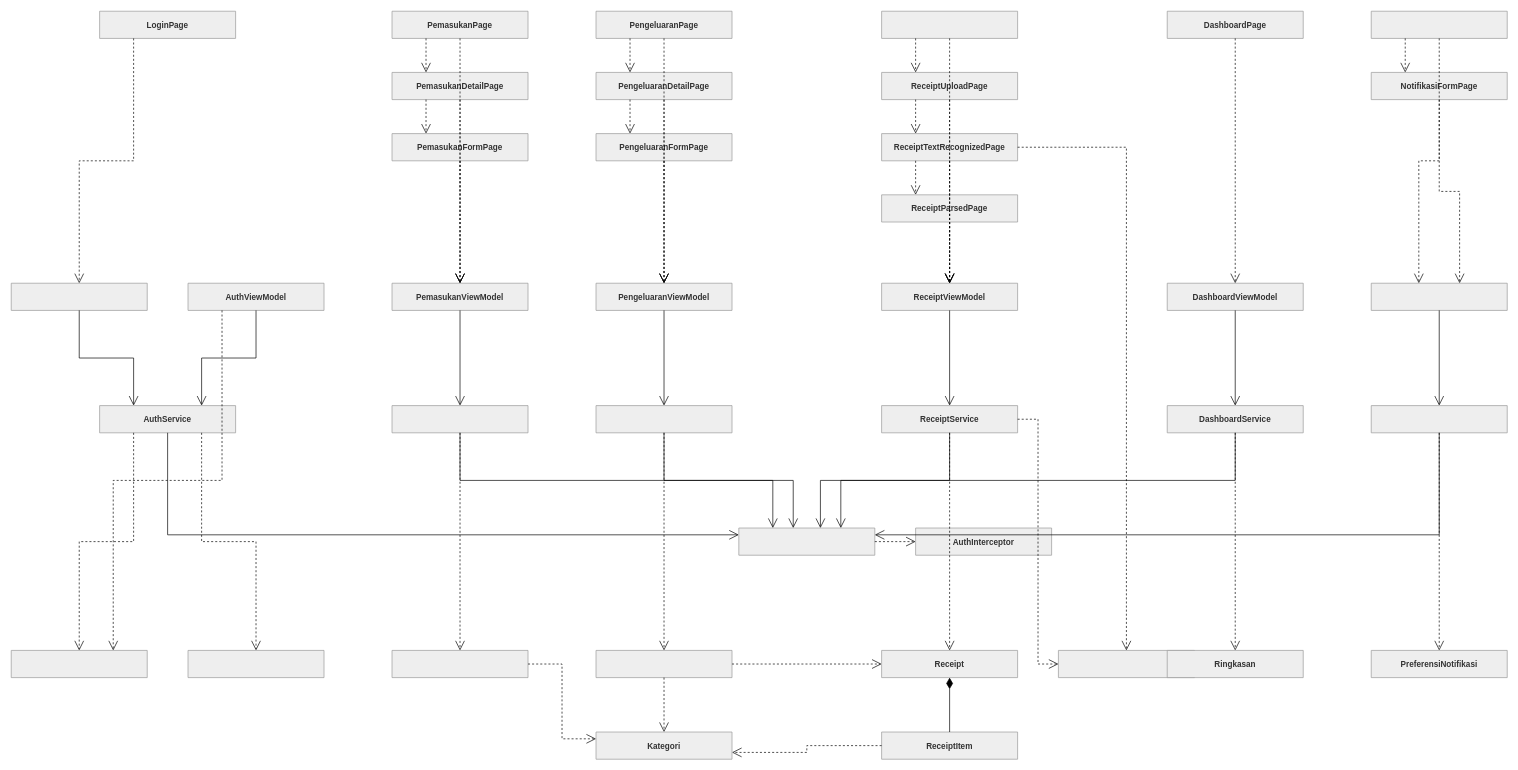
Some shapes in this 1518 by 770 pixel diagram are drawn without their labels. The shapes that lost their labels are listed below. From the top down, each one's box as (x1, y1, x2, y2) in pixels, then its label:
(881, 11, 1018, 38): ReceiptScanPage
(1371, 11, 1507, 38): NotifikasiPage
(11, 283, 147, 310): LoginViewModel
(1371, 283, 1507, 310): NotifikasiViewModel
(391, 405, 528, 433): PemasukanService
(595, 405, 732, 433): PengeluaranService
(1371, 405, 1507, 433): NotifikasiService
(738, 527, 875, 555): DioClient
(11, 650, 147, 678): Pengguna
(187, 650, 324, 678): AuthToken
(391, 650, 528, 678): Pemasukan
(595, 650, 732, 678): Pengeluaran
(1058, 650, 1194, 678): RecognizedText
